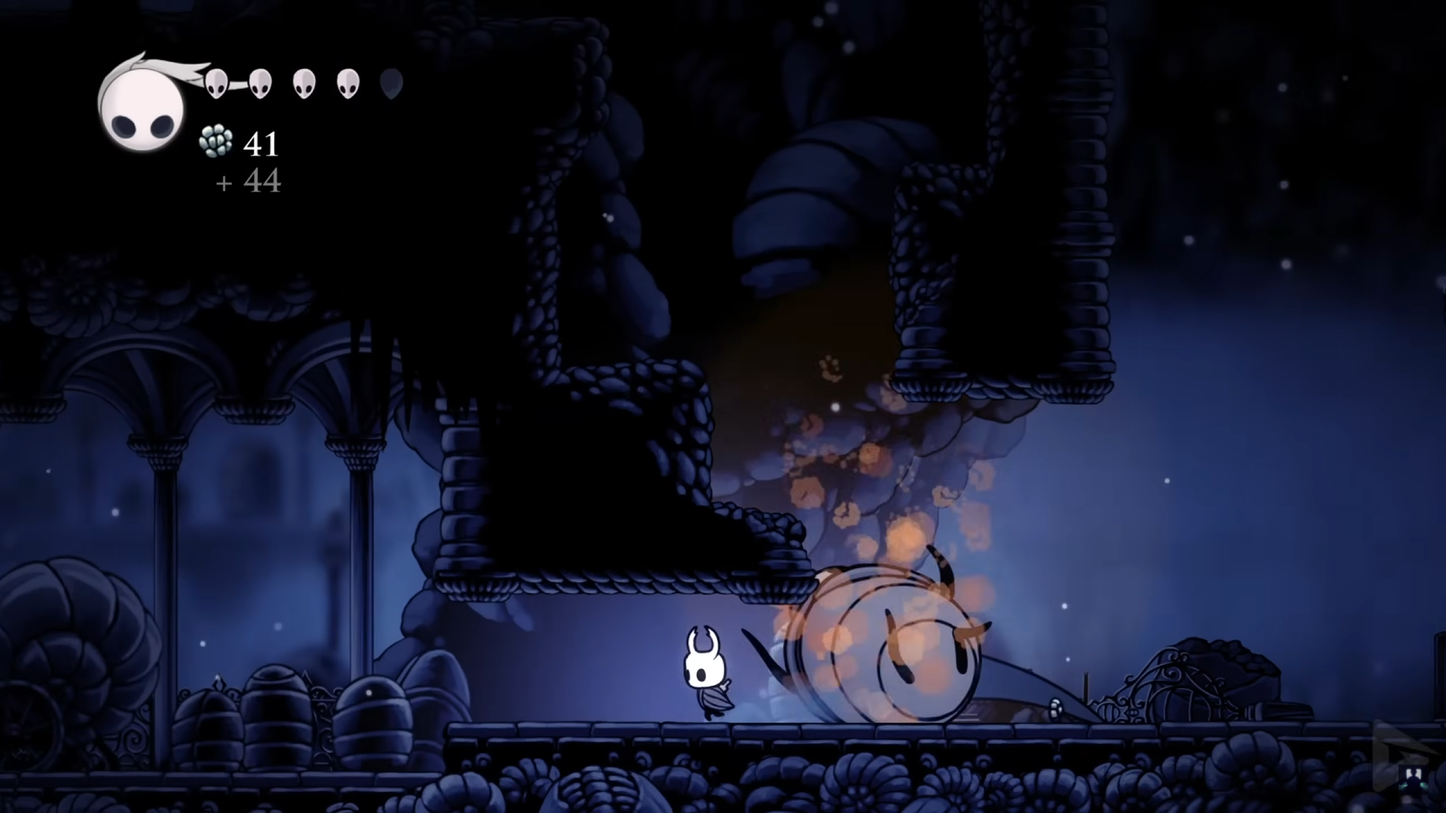HK: (682, 624, 732, 725)
